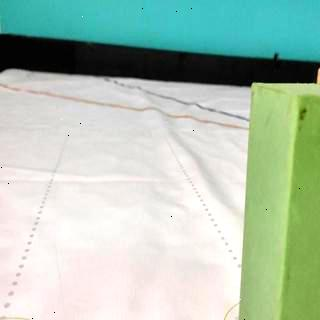greenbox: (239, 81, 320, 320)
